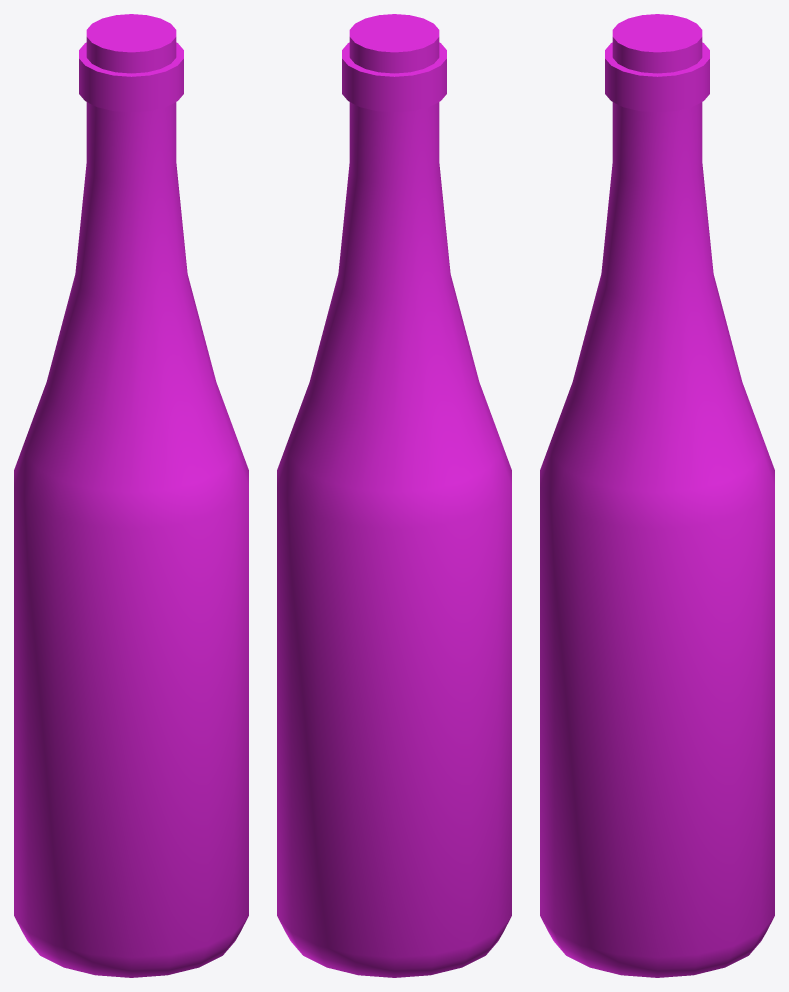
File: Wine bottle.FBX
3 renders of one model, left to right at view 1: azimuth 30°, elevation 25°; view 2: azimuth 150°, elevation 25°; view 3: azimuth 270°, elevation 25°, orthographic.
Visible parts, largest first — view 1: Wine bottle; view 2: Wine bottle; view 3: Wine bottle.
Boxes of the visible parts, <box> form: Wine bottle: <box>14,14,248,977</box>; Wine bottle: <box>277,14,511,977</box>; Wine bottle: <box>540,14,774,977</box>.
Bounding box in the file's own units: 0.158 × 0.6678 × 0.1556.
